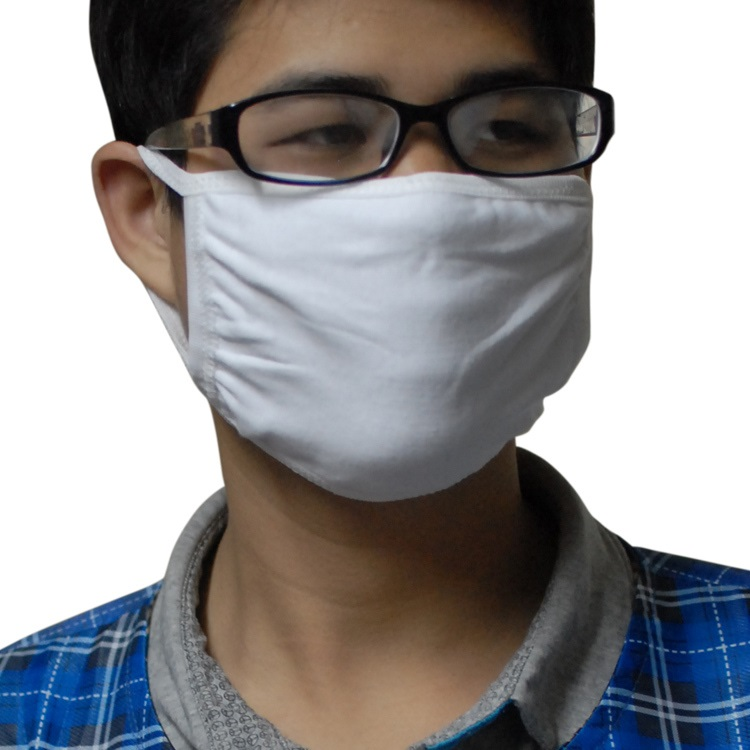face_mask: (195, 0, 586, 440)
